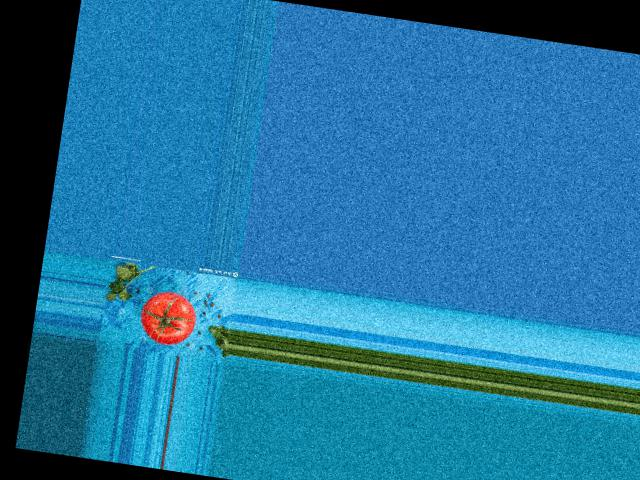tomato: (136, 288, 198, 347)
